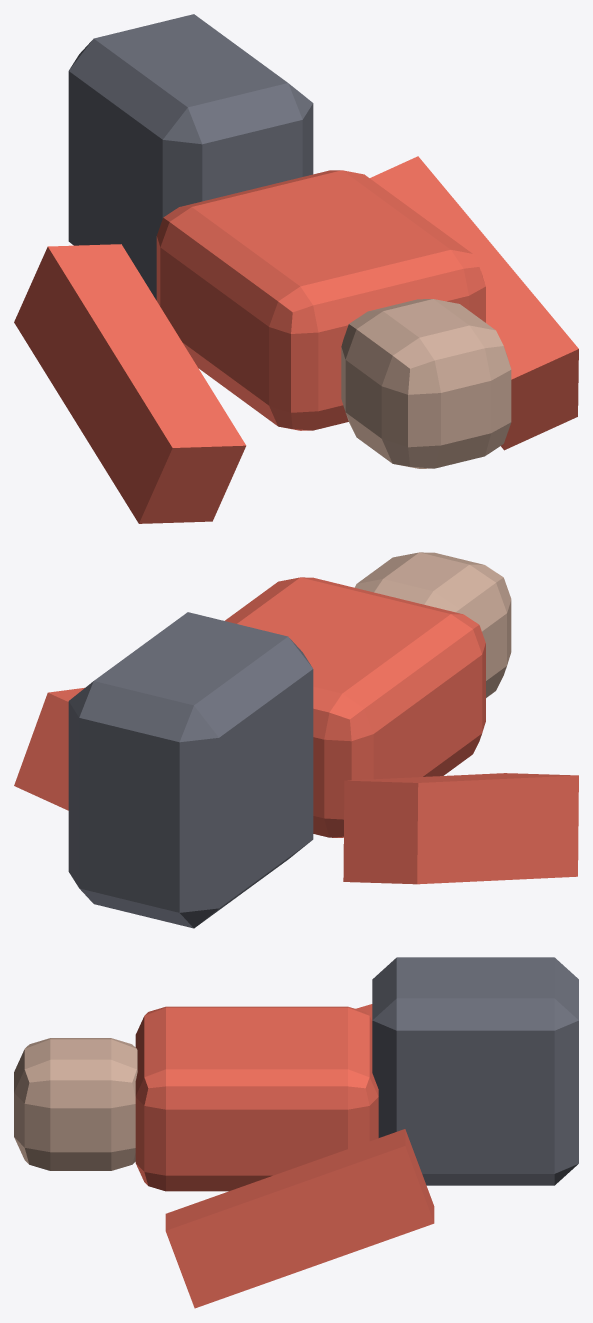
Rendered from spectator_0.glb.
3 renders of one model, top to bottom at view 1: azimuth 30°, elevation 25°; view 2: azimuth 150°, elevation 25°; view 3: azimuth 270°, elevation 25°, orthographic. The views are drawn at different scales.
Parts seen in each view (by area): view 1: spec0_torso, spec0_legs, spec0_arm_-1, spec0_head, spec0_arm_1; view 2: spec0_legs, spec0_torso, spec0_arm_-1, spec0_head, spec0_arm_1; view 3: spec0_legs, spec0_torso, spec0_arm_1, spec0_head.
Part boxes in pixels (left/top/right/bottom): spec0_torso: left=156, top=170, right=485, bottom=430; spec0_legs: left=68, top=14, right=313, bottom=300; spec0_arm_-1: left=14, top=244, right=246, bottom=523; spec0_head: left=341, top=299, right=511, bottom=468; spec0_arm_1: left=370, top=156, right=578, bottom=450; spec0_legs: left=68, top=612, right=313, bottom=928; spec0_torso: left=225, top=577, right=485, bottom=837; spec0_arm_-1: left=343, top=773, right=578, bottom=884; spec0_head: left=355, top=552, right=511, bottom=697; spec0_arm_1: left=14, top=687, right=84, bottom=810; spec0_legs: left=372, top=957, right=578, bottom=1185; spec0_torso: left=135, top=1006, right=378, bottom=1191; spec0_arm_1: left=165, top=1129, right=434, bottom=1308; spec0_head: left=14, top=1038, right=137, bottom=1170.
Size of the model in its own units: 0.7002 by 0.4612 by 0.93.
